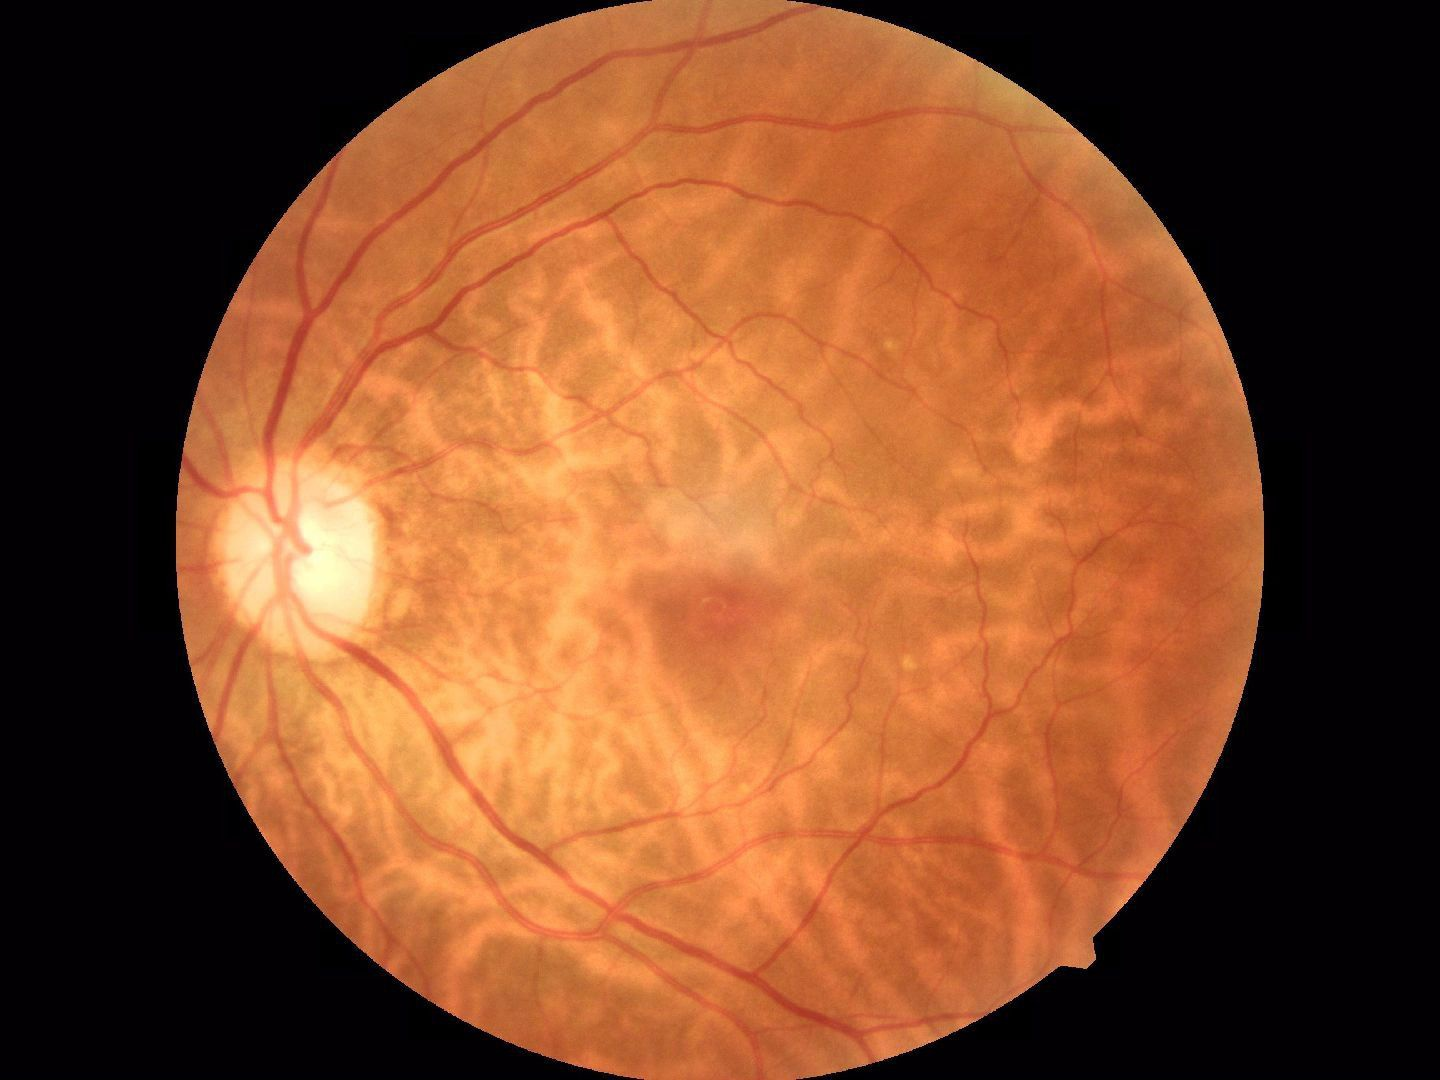Arterioles: (649, 281, 893, 508), (791, 676, 1086, 857)
Hemorrhages: (608, 562, 783, 681)
Optic-Disc: (194, 457, 403, 636)
Venules: (522, 815, 731, 970), (262, 251, 390, 441)
